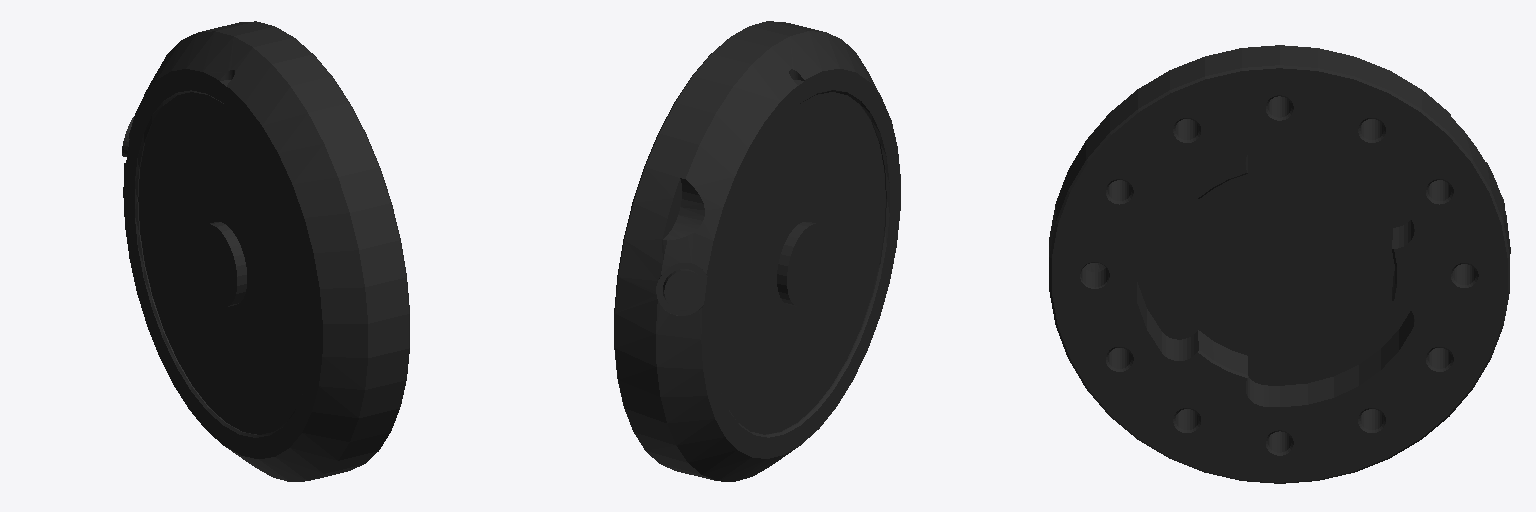
3 views of the same model, side by side, from view 1: azimuth 30°, elevation 25°; view 2: azimuth 150°, elevation 25°; view 3: azimuth 270°, elevation 25° (orthographic).
Parts seen in each view (by area): view 1: IRB6700-MH3_150-320_IRC5_rev02_LINK06_CAD; view 2: IRB6700-MH3_150-320_IRC5_rev02_LINK06_CAD; view 3: IRB6700-MH3_150-320_IRC5_rev02_LINK06_CAD.
Boxes of the visible parts, x1,y1,x2,y2 form: IRB6700-MH3_150-320_IRC5_rev02_LINK06_CAD: [122, 21, 409, 481]; IRB6700-MH3_150-320_IRC5_rev02_LINK06_CAD: [614, 21, 900, 481]; IRB6700-MH3_150-320_IRC5_rev02_LINK06_CAD: [1049, 45, 1510, 483].
Bounding box in the file's own units: 0.04 × 0.2 × 0.1996.